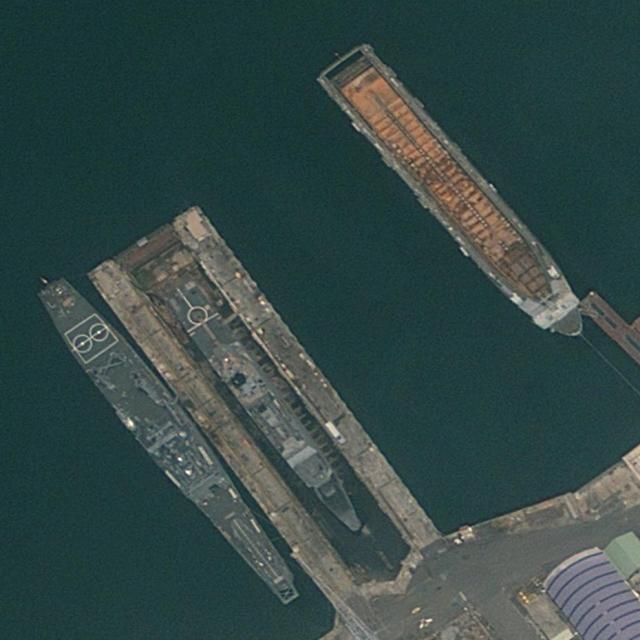Cargo: (311, 34, 604, 359)
Dock: (89, 255, 360, 606), (172, 204, 439, 551)
Other Warship: (32, 264, 313, 620), (163, 277, 378, 551)
